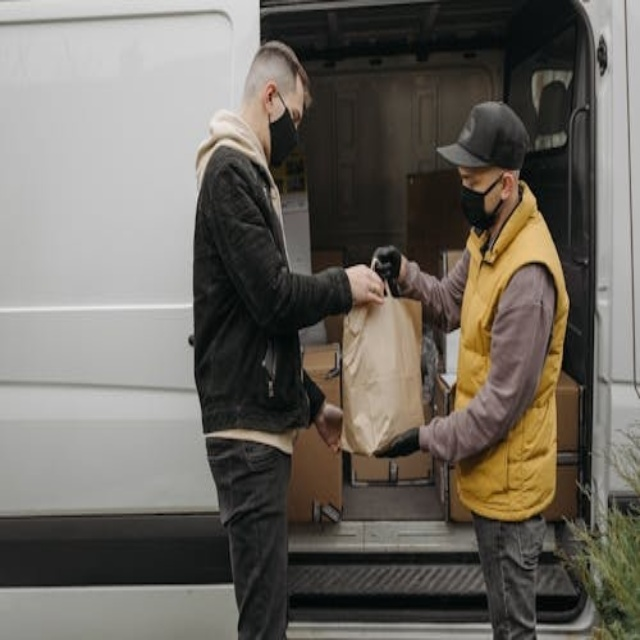Guantes: (376, 418, 426, 460), (369, 238, 399, 287)
Mascara: (459, 175, 504, 230), (267, 93, 299, 169)
Sin_gafas: (284, 86, 305, 128), (457, 167, 493, 188)
Sin_guantes: (344, 263, 389, 308), (312, 399, 343, 452)
